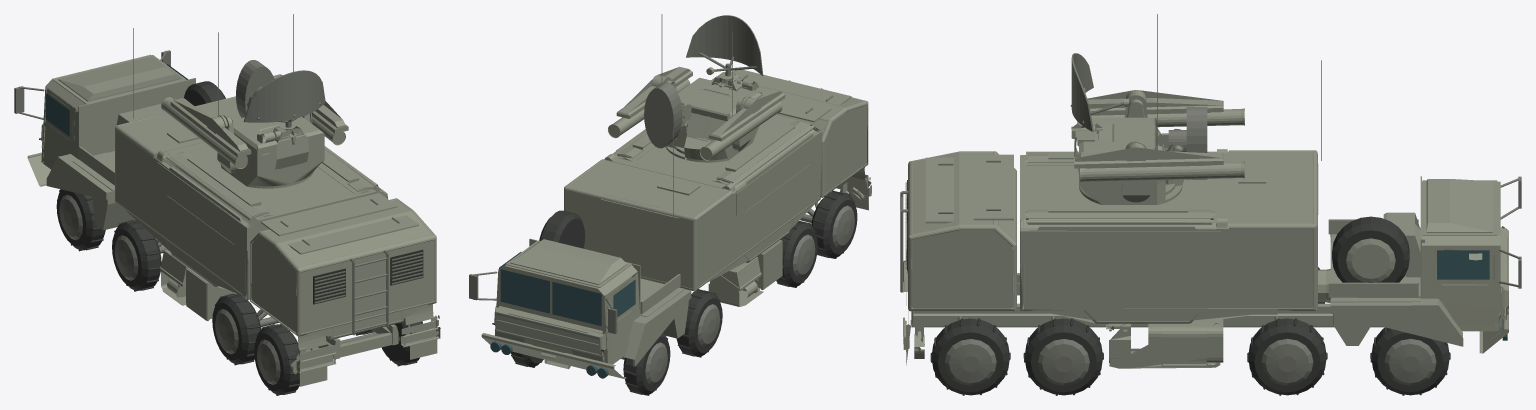
File: germ_flarakrad.glb
3 views of the same model, side by side, from view 1: azimuth 30°, elevation 25°; view 2: azimuth 150°, elevation 25°; view 3: azimuth 270°, elevation 25° (orthographic). The views are drawn at different scales.
Visible parts, largest first — view 1: HullArmour, HatchesGrillesGlazingLightsMirrorsAndCabAntenna, EightPneumaticWheelsAxlesAndSuspension, FendersFuelTanksSpareWheelAndLadder, TurretArmour, SearchRadarReflector, MainGunAndMuzzleBrake, TrackingRadarReflector, LoadedMissileContainer01, SearchRadarMount; view 2: HullArmour, HatchesGrillesGlazingLightsMirrorsAndCabAntenna, EightPneumaticWheelsAxlesAndSuspension, FendersFuelTanksSpareWheelAndLadder, TurretArmour, SearchRadarReflector, MainGunAndMuzzleBrake, TrackingRadarReflector, LoadedMissileContainer01, SearchRadarMount, LoadedMissileContainer02, LauncherElevationArms; view 3: HullArmour, HatchesGrillesGlazingLightsMirrorsAndCabAntenna, EightPneumaticWheelsAxlesAndSuspension, FendersFuelTanksSpareWheelAndLadder, MainGunAndMuzzleBrake, TurretArmour, LoadedMissileContainer02, SearchRadarReflector, TrackingRadarReflector, LoadedMissileContainer01, LauncherElevationArms.
Boxes of the visible parts, x1,y1,x2,y2 form: HullArmour: (27, 54, 436, 359); HatchesGrillesGlazingLightsMirrorsAndCabAntenna: (14, 28, 423, 304); EightPneumaticWheelsAxlesAndSuspension: (56, 189, 422, 395); FendersFuelTanksSpareWheelAndLadder: (46, 81, 440, 386); TurretArmour: (220, 117, 324, 188); SearchRadarReflector: (243, 70, 325, 122); MainGunAndMuzzleBrake: (170, 74, 348, 157); TrackingRadarReflector: (236, 60, 274, 117); LoadedMissileContainer01: (161, 97, 248, 168); SearchRadarMount: (257, 120, 304, 144); HullArmour: (481, 70, 868, 378); HatchesGrillesGlazingLightsMirrorsAndCabAntenna: (469, 69, 851, 378); EightPneumaticWheelsAxlesAndSuspension: (511, 190, 857, 395); FendersFuelTanksSpareWheelAndLadder: (539, 80, 871, 369); TurretArmour: (665, 77, 762, 162); SearchRadarReflector: (686, 15, 763, 76); MainGunAndMuzzleBrake: (616, 66, 785, 141); TrackingRadarReflector: (644, 82, 682, 148); LoadedMissileContainer01: (699, 102, 782, 160); SearchRadarMount: (711, 63, 758, 91); LoadedMissileContainer02: (608, 79, 690, 138); LauncherElevationArms: (664, 77, 751, 151); HullArmour: (908, 150, 1508, 353); HatchesGrillesGlazingLightsMirrorsAndCabAntenna: (905, 60, 1521, 345); EightPneumaticWheelsAxlesAndSuspension: (930, 267, 1450, 395); FendersFuelTanksSpareWheelAndLadder: (900, 191, 1463, 368); MainGunAndMuzzleBrake: (1074, 90, 1223, 168); TurretArmour: (1074, 117, 1184, 204); LoadedMissileContainer02: (1080, 161, 1244, 182); SearchRadarReflector: (1070, 53, 1128, 131); TrackingRadarReflector: (1168, 107, 1207, 179); LoadedMissileContainer01: (1091, 108, 1244, 127); LauncherElevationArms: (1121, 96, 1150, 202).
Size of the model in its own units: 3.21 by 5.78 by 10.01.
